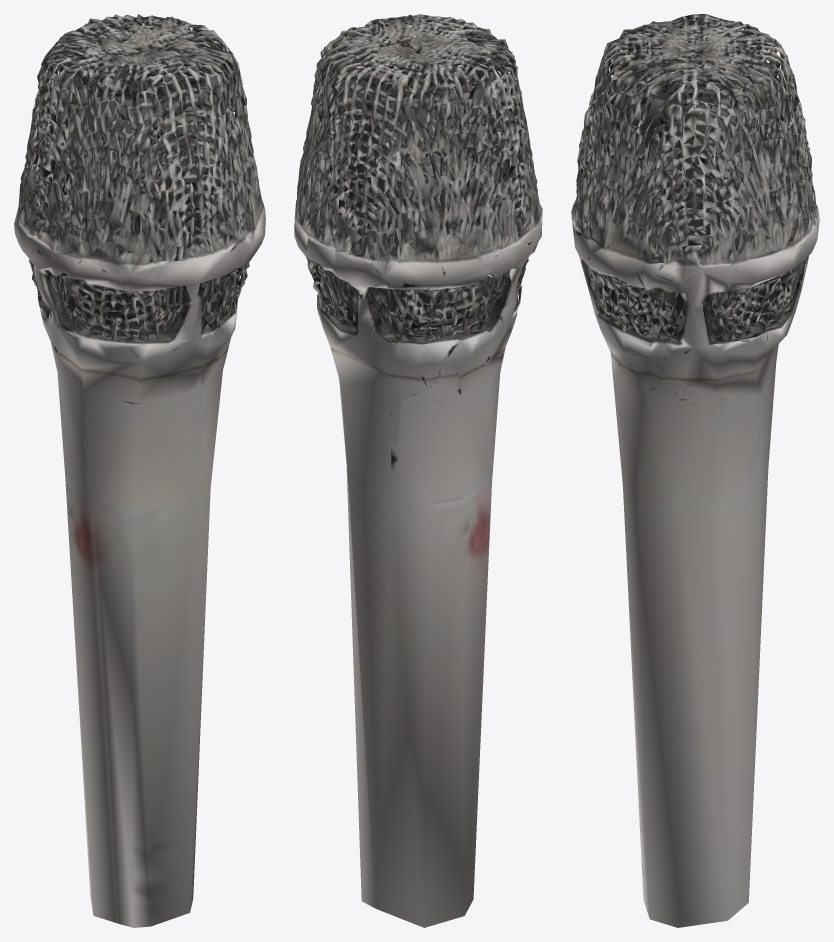
Rendered from Neumann KMS 105.lite.glb.
3 views of the same model, side by side, from view 1: azimuth 30°, elevation 25°; view 2: azimuth 150°, elevation 25°; view 3: azimuth 270°, elevation 25° (orthographic).
Visible parts, largest first — view 1: geometry_0; view 2: geometry_0; view 3: geometry_0.
Part boxes in pixels (x1=…): geometry_0: x1=14, y1=14, x2=265, y2=927; geometry_0: x1=294, y1=14, x2=542, y2=927; geometry_0: x1=571, y1=14, x2=819, y2=927.
Size of the model in its own units: 0.047 by 0.1798 by 0.0468.
Materials: 1 (1 with a texture image).
